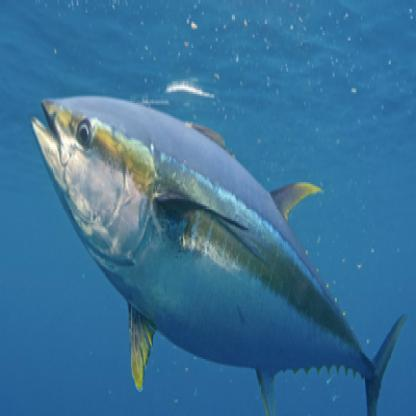tuna: (22, 84, 407, 413)
